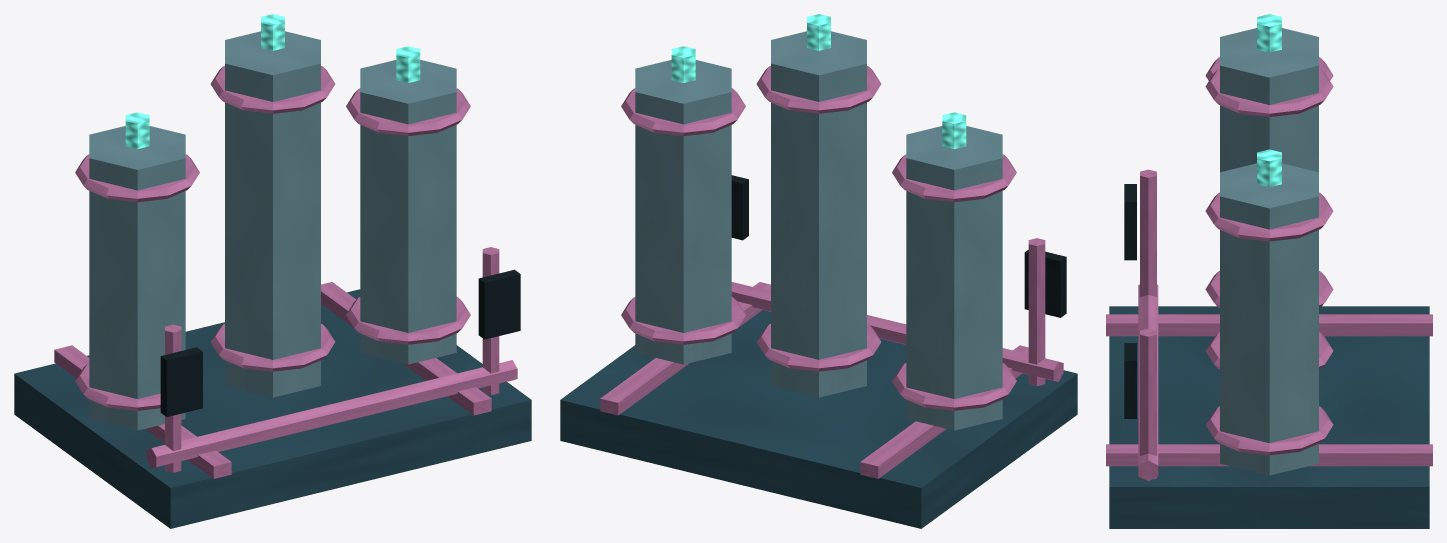
Rendered from atlas100-s065-a02.lod1.glb.
3 views of the same model, side by side, from view 1: azimuth 30°, elevation 25°; view 2: azimuth 150°, elevation 25°; view 3: azimuth 270°, elevation 25° (orthographic). The views are drawn at different scales.
Visible parts, largest first — view 1: atlas100-s065-a02:part-000, atlas100-s065-a02:part-007, atlas100-s065-a02:part-011, atlas100-s065-a02:part-003, atlas100-s065-a02:part-019, atlas100-s065-a02:part-016, atlas100-s065-a02:part-018, atlas100-s065-a02:part-002, atlas100-s065-a02:part-012, atlas100-s065-a02:part-005, atlas100-s065-a02:part-013, atlas100-s065-a02:part-008 (+8 smaller); view 2: atlas100-s065-a02:part-000, atlas100-s065-a02:part-007, atlas100-s065-a02:part-003, atlas100-s065-a02:part-011, atlas100-s065-a02:part-019, atlas100-s065-a02:part-002, atlas100-s065-a02:part-015, atlas100-s065-a02:part-001, atlas100-s065-a02:part-004, atlas100-s065-a02:part-012, atlas100-s065-a02:part-005, atlas100-s065-a02:part-013 (+7 smaller); view 3: atlas100-s065-a02:part-000, atlas100-s065-a02:part-011, atlas100-s065-a02:part-007, atlas100-s065-a02:part-002, atlas100-s065-a02:part-001, atlas100-s065-a02:part-017, atlas100-s065-a02:part-015, atlas100-s065-a02:part-012, atlas100-s065-a02:part-009, atlas100-s065-a02:part-013, atlas100-s065-a02:part-019, atlas100-s065-a02:part-016 (+6 smaller).
Boxes of the visible parts, <box> form: atlas100-s065-a02:part-000: <box>14,289,531,528</box>; atlas100-s065-a02:part-007: <box>225,31,320,397</box>; atlas100-s065-a02:part-011: <box>360,60,456,364</box>; atlas100-s065-a02:part-003: <box>89,126,185,430</box>; atlas100-s065-a02:part-019: <box>146,360,517,468</box>; atlas100-s065-a02:part-016: <box>160,347,202,416</box>; atlas100-s065-a02:part-018: <box>478,269,520,339</box>; atlas100-s065-a02:part-002: <box>321,282,491,415</box>; atlas100-s065-a02:part-012: <box>346,297,470,344</box>; atlas100-s065-a02:part-005: <box>75,154,199,202</box>; atlas100-s065-a02:part-013: <box>346,88,470,135</box>; atlas100-s065-a02:part-008: <box>210,323,335,371</box>; atlas100-s065-a02:part-000: <box>560,310,1077,528</box>; atlas100-s065-a02:part-007: <box>771,31,866,397</box>; atlas100-s065-a02:part-003: <box>906,126,1002,430</box>; atlas100-s065-a02:part-011: <box>635,60,731,364</box>; atlas100-s065-a02:part-019: <box>731,282,1063,381</box>; atlas100-s065-a02:part-002: <box>600,282,770,415</box>; atlas100-s065-a02:part-015: <box>1028,238,1045,386</box>; atlas100-s065-a02:part-001: <box>860,345,1028,478</box>; atlas100-s065-a02:part-004: <box>892,363,1016,410</box>; atlas100-s065-a02:part-012: <box>621,297,745,344</box>; atlas100-s065-a02:part-005: <box>892,154,1016,202</box>; atlas100-s065-a02:part-013: <box>621,88,745,135</box>; atlas100-s065-a02:part-000: <box>1109,306,1429,528</box>; atlas100-s065-a02:part-011: <box>1220,163,1318,475</box>; atlas100-s065-a02:part-007: <box>1220,32,1318,172</box>; atlas100-s065-a02:part-002: <box>1106,444,1432,466</box>; atlas100-s065-a02:part-001: <box>1106,314,1432,336</box>; atlas100-s065-a02:part-017: <box>1140,328,1156,478</box>; atlas100-s065-a02:part-015: <box>1140,169,1156,296</box>; atlas100-s065-a02:part-012: <box>1205,406,1333,455</box>; atlas100-s065-a02:part-009: <box>1205,68,1333,116</box>; atlas100-s065-a02:part-013: <box>1205,192,1333,241</box>; atlas100-s065-a02:part-019: <box>1138,284,1158,481</box>; atlas100-s065-a02:part-016: <box>1124,184,1136,260</box>.
Size of the model in its own units: 2.52 by 2.59 by 1.84.
Materials: 5 (5 with a texture image).
